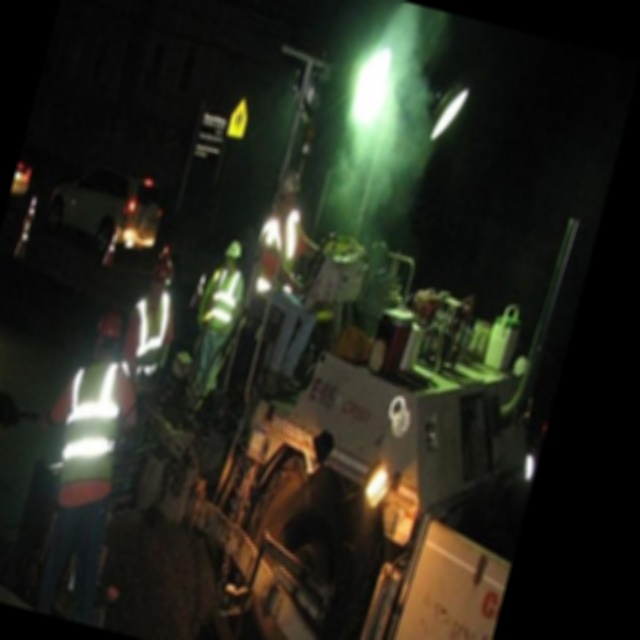Con_Chaleco: (47, 359, 139, 503), (123, 289, 178, 378), (201, 267, 248, 338)
